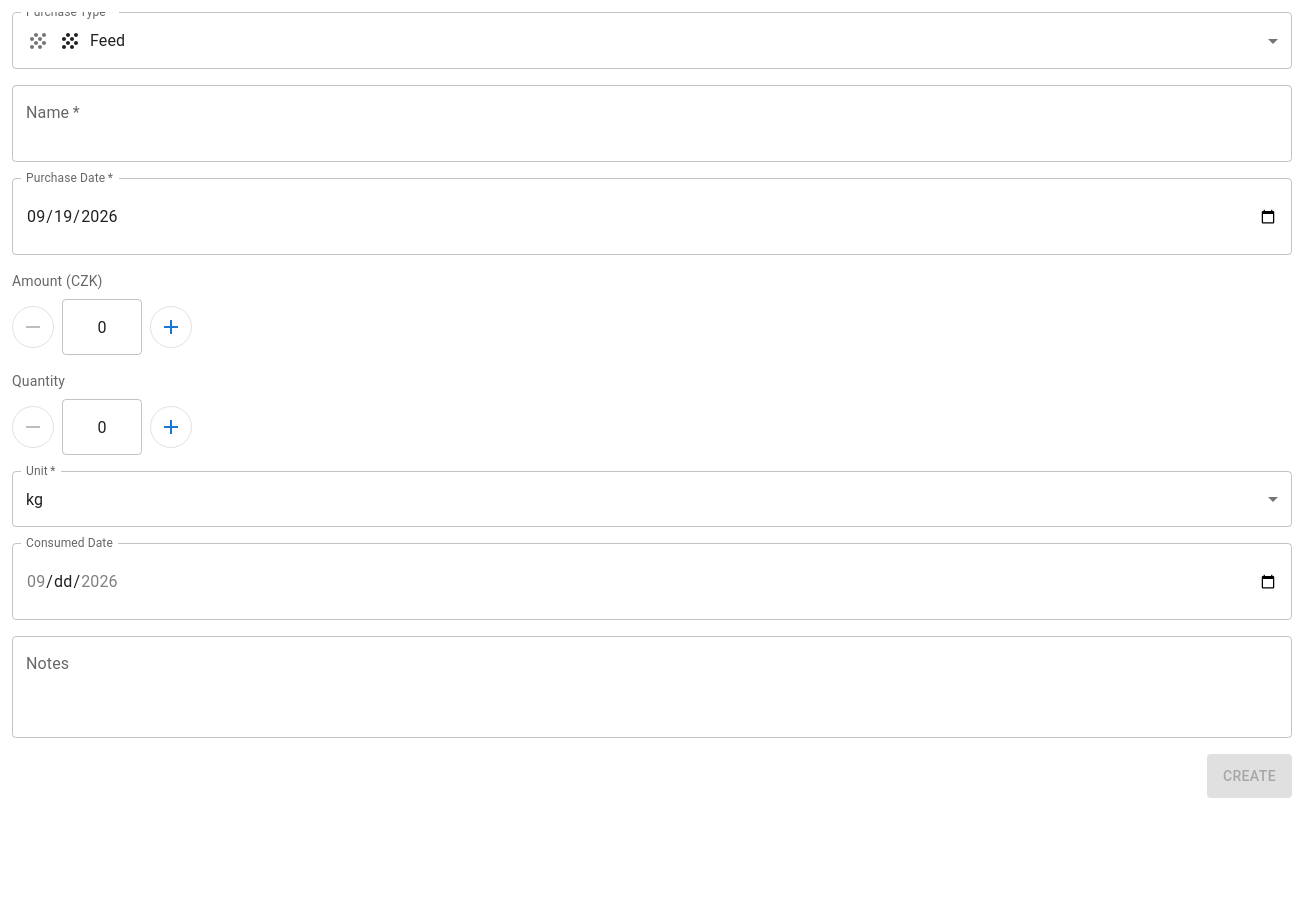
Test case: PurchaseForm › Autocomplete › should allow selecting autocomplete suggestion
Type "Kr" into the dropdown labelled "Name *". click: point(637, 124)
box: left=21, top=94, right=1253, bottom=153
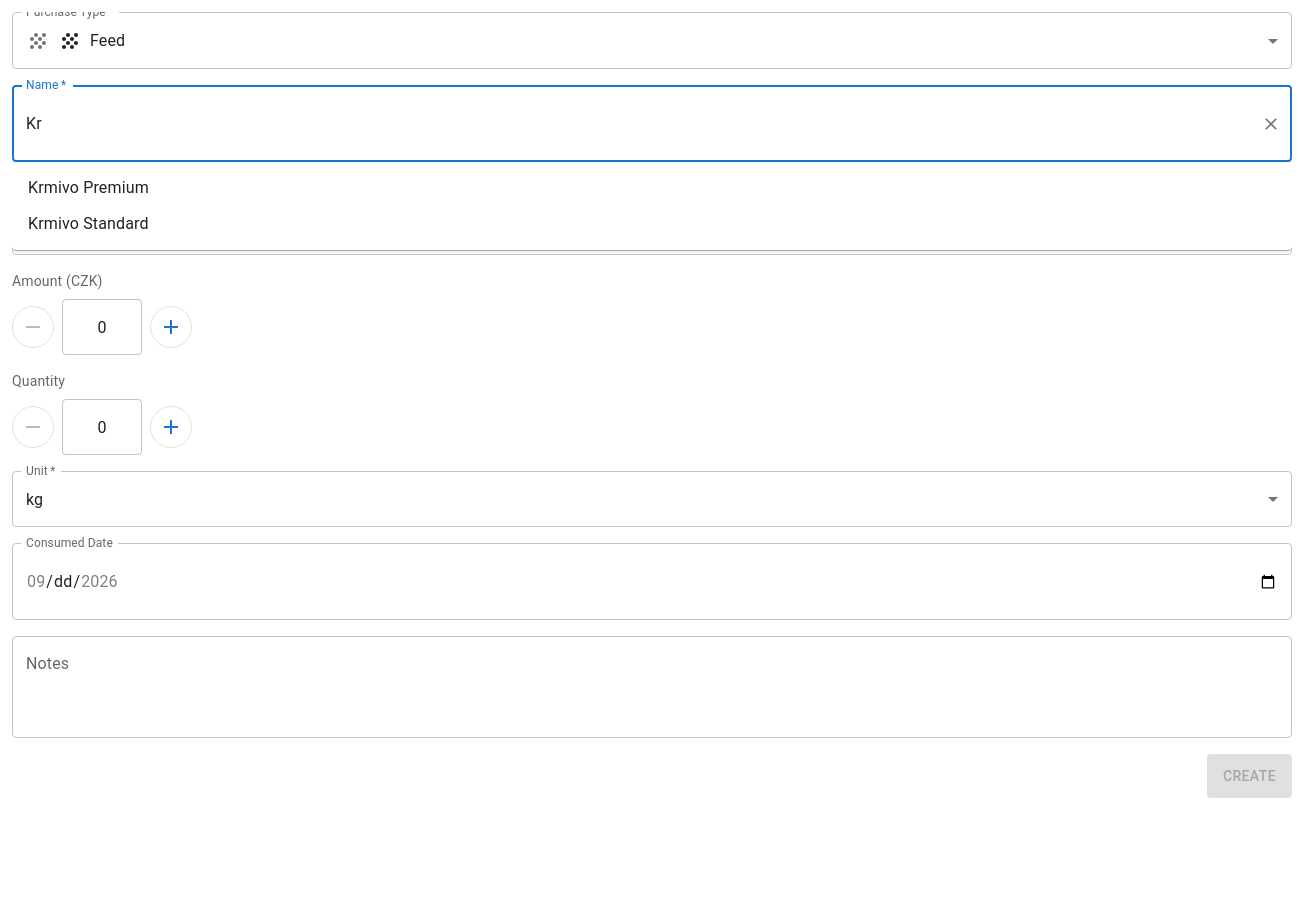
expect the option "Krmivo Premium" is shown: met
Click on suggestion
Click the option "Krmivo Premium". click: point(88, 188)
box: left=28, top=178, right=149, bottom=197
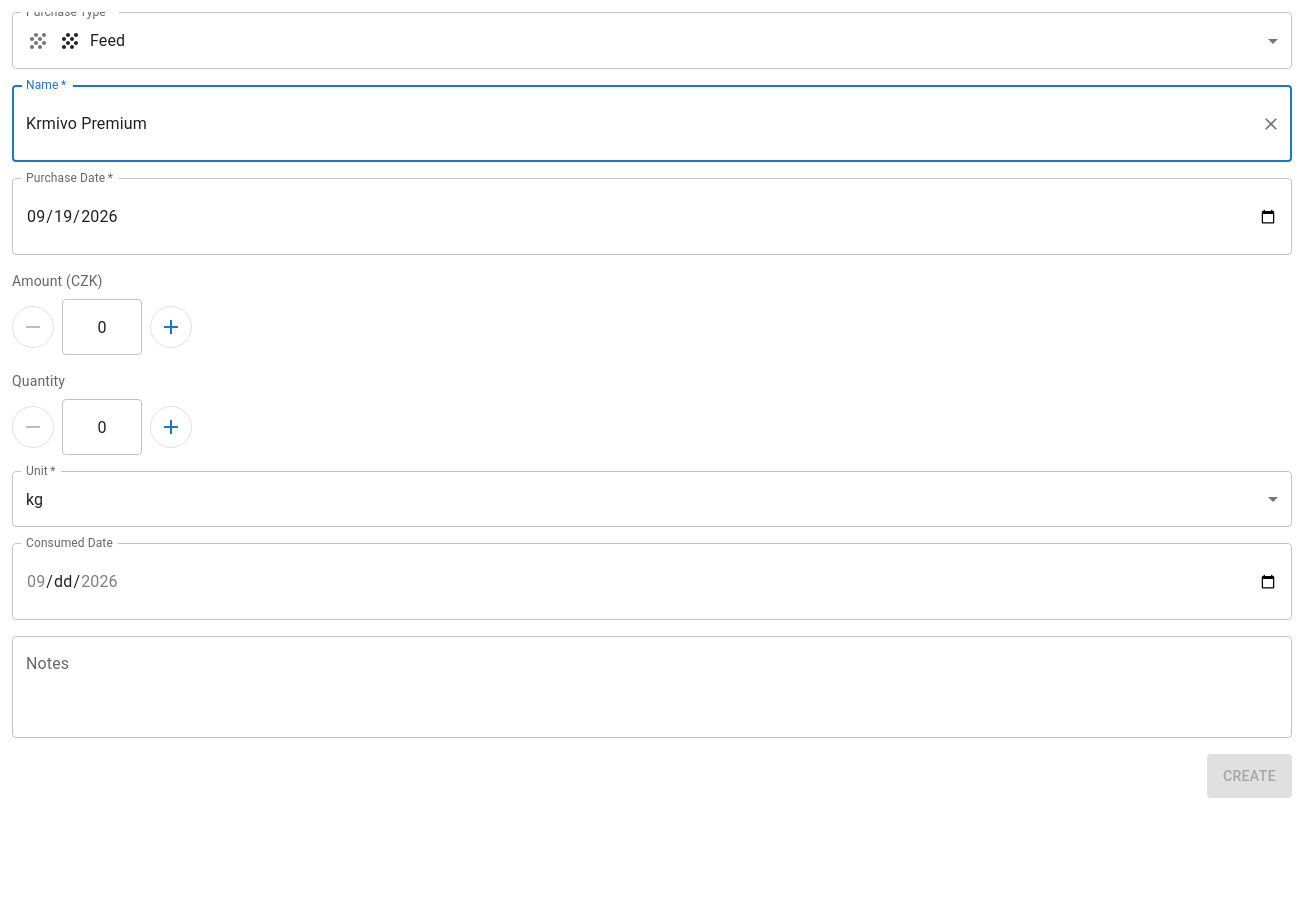
expect the dropdown labelled "Name *" holds "Krmivo Premium": met, box left=21, top=94, right=1253, bottom=153
